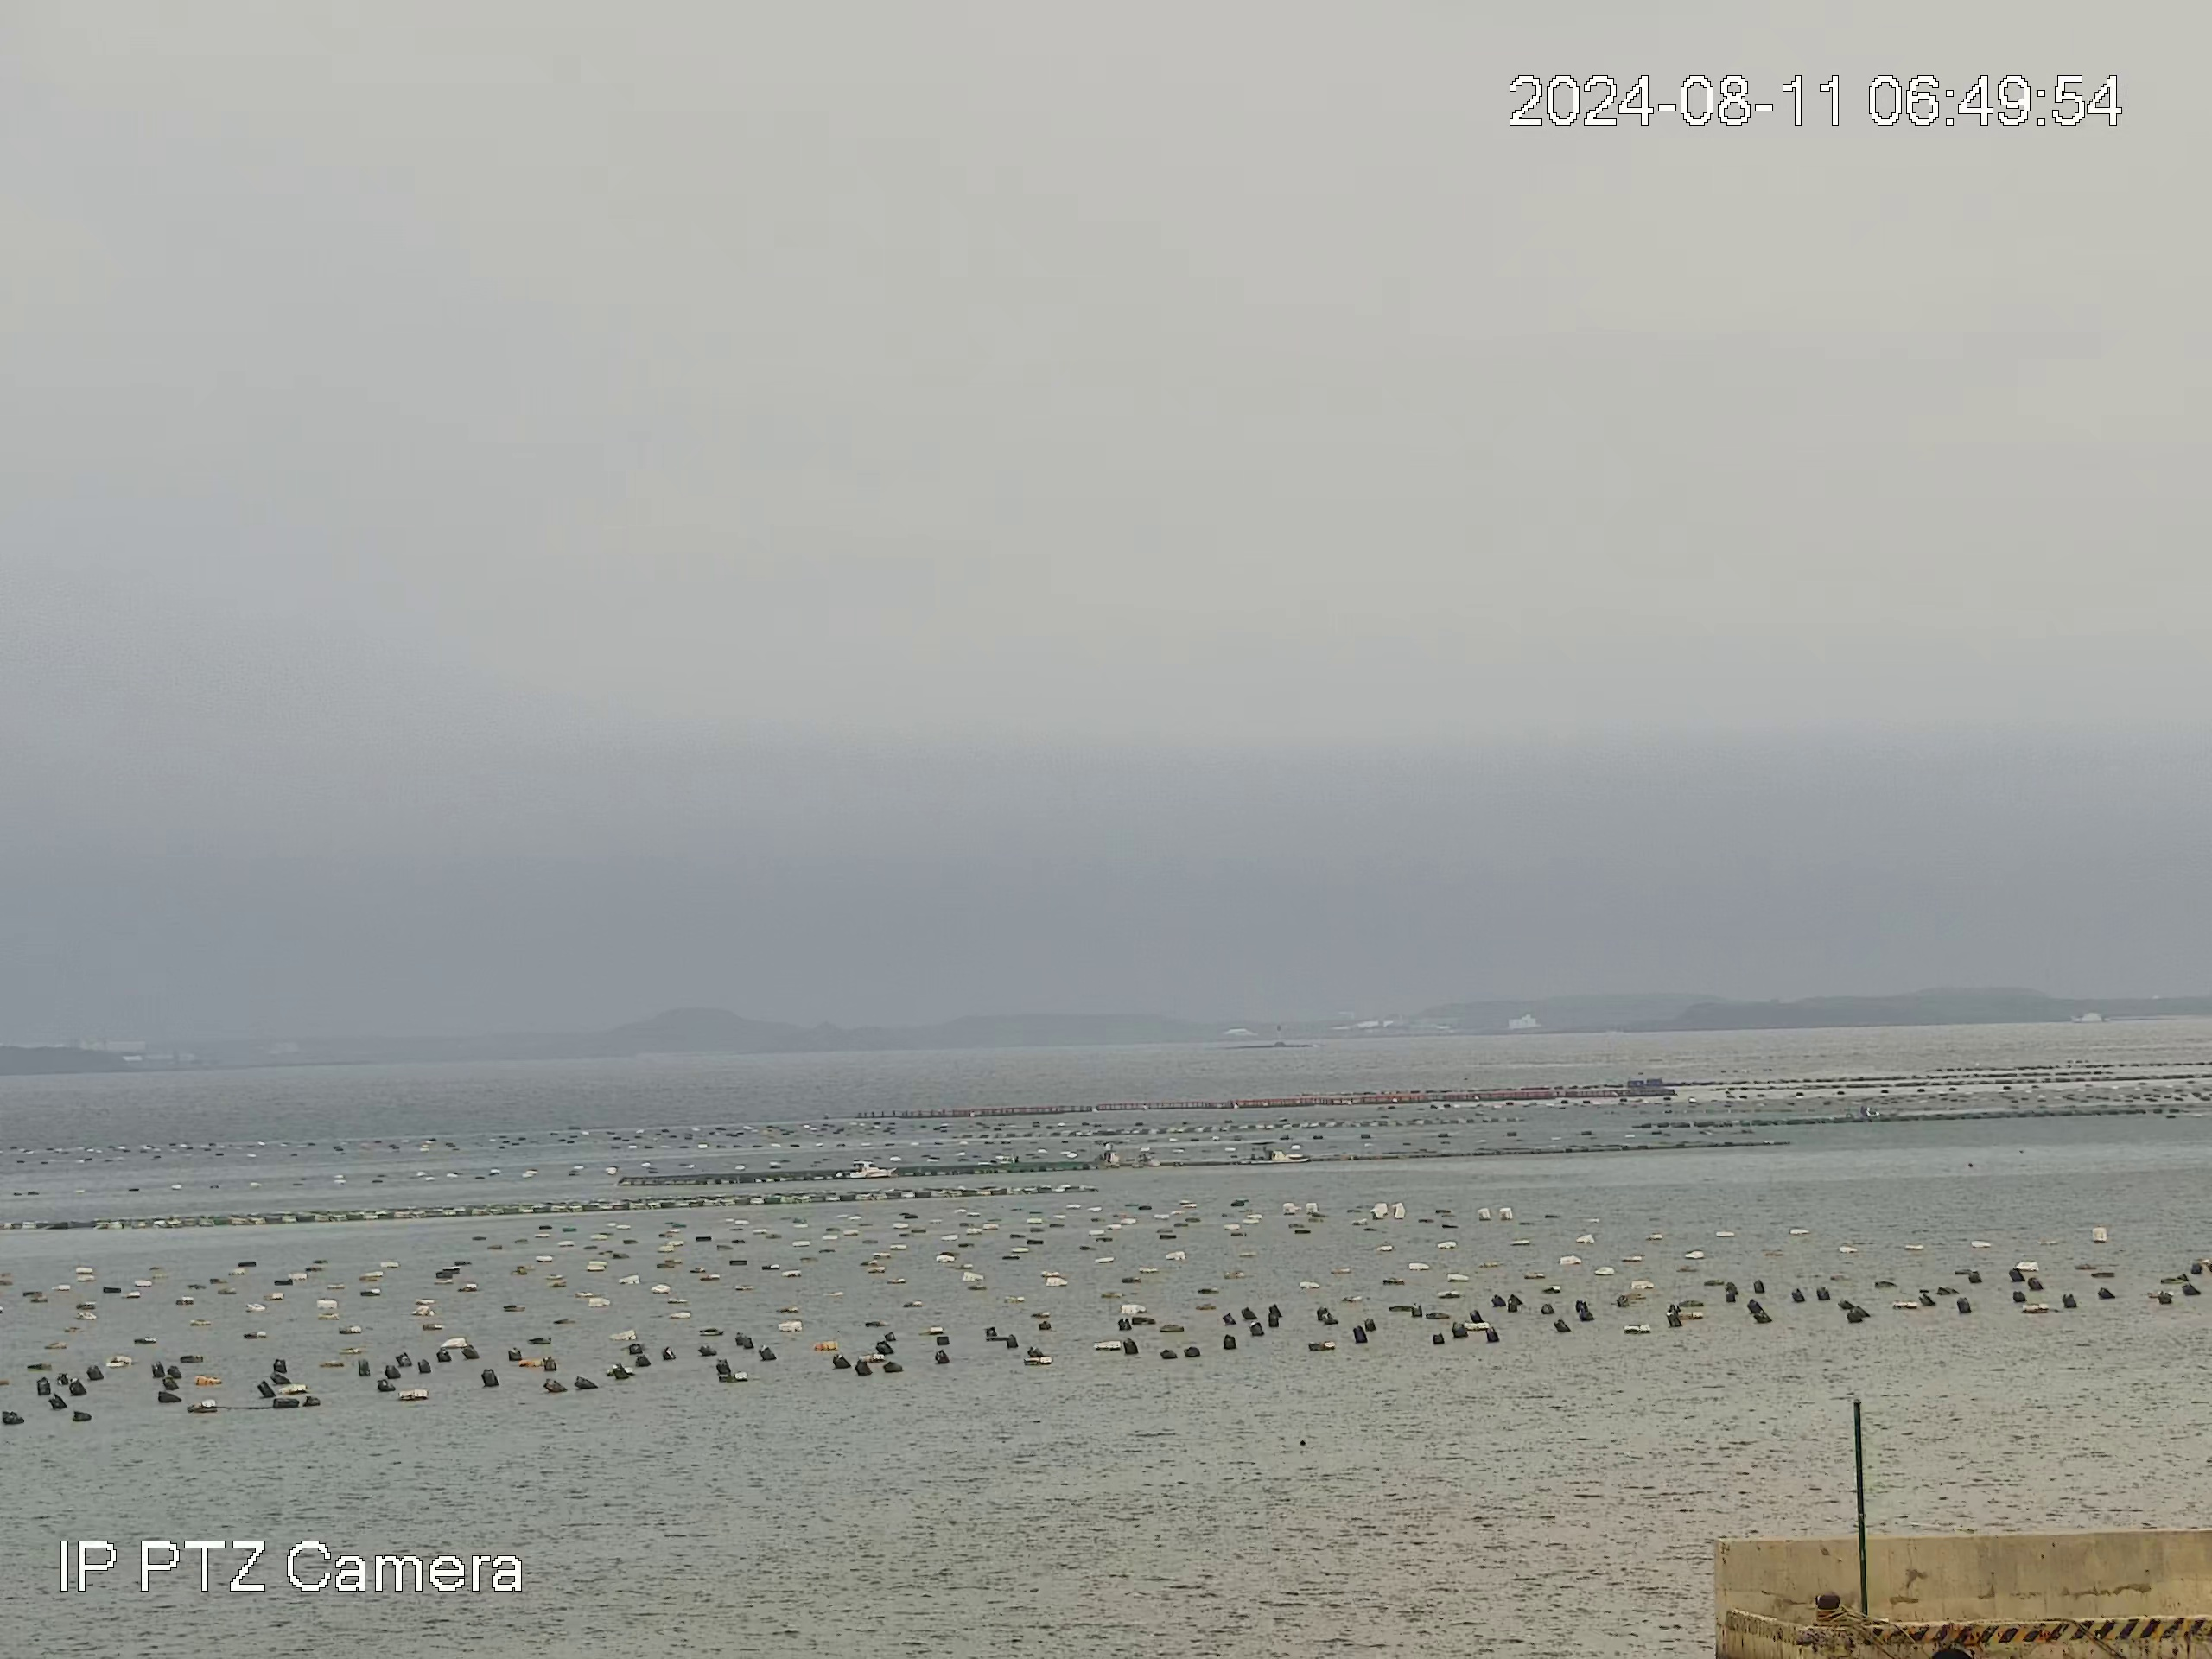boat: (833, 1159, 894, 1178), (1245, 1145, 1289, 1164)
